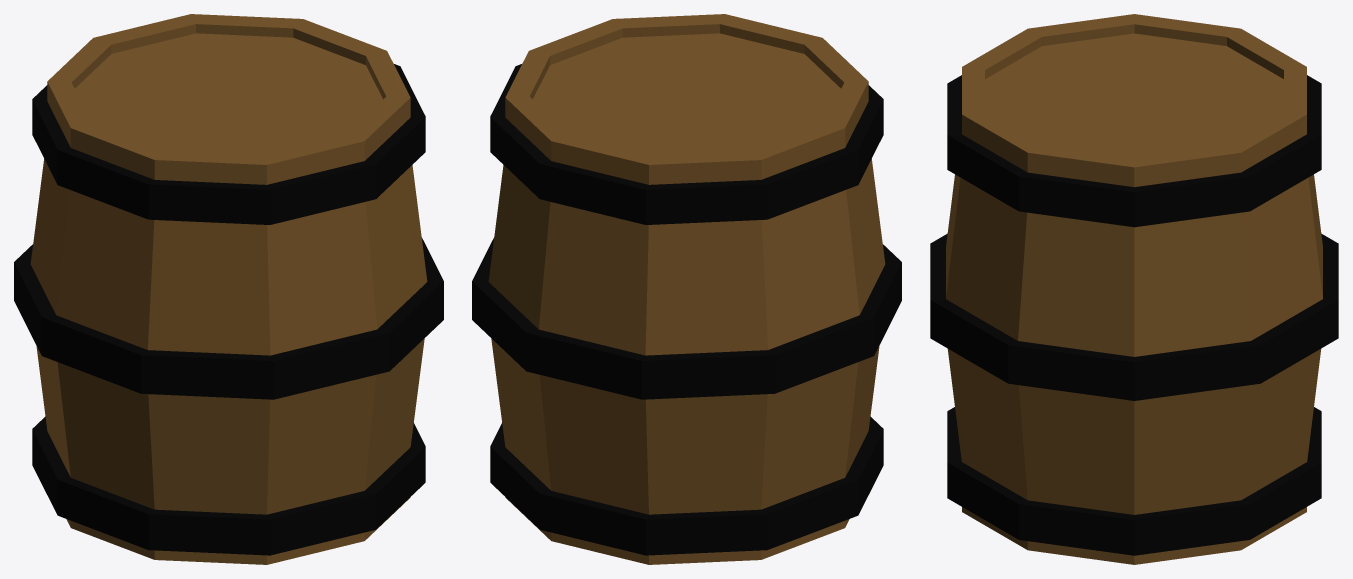
The model's file is Barrel_Destructible.fbx.
3 renders of one model, left to right at view 1: azimuth 30°, elevation 25°; view 2: azimuth 150°, elevation 25°; view 3: azimuth 270°, elevation 25°, orthographic.
Visible parts, largest first — view 1: Barrel_Destructible, Barrel_Destructible_cell.001, Barrel_Destructible_cell, Barrel_IronBelt_02, Barrel_IronBelt_03, Barrel_IronBelt_01, Barrel_Destructible_cell.008, Barrel_Destructible_cell.003, Barrel_Destructible_cell.002, Barrel_Destructible_cell.004, Barrel_Destructible_cell.005; view 2: Barrel_Destructible, Barrel_IronBelt_02, Barrel_IronBelt_03, Barrel_IronBelt_01, Barrel_Destructible_cell.001, Barrel_Destructible_cell.002, Barrel_Destructible_cell.003; view 3: Barrel_Destructible, Barrel_IronBelt_02, Barrel_IronBelt_01, Barrel_IronBelt_03, Barrel_Destructible_cell.003, Barrel_Destructible_cell.008, Barrel_Destructible_cell, Barrel_Destructible_cell.006, Barrel_Destructible_cell.002, Barrel_Destructible_cell.004, Barrel_Destructible_cell.005.
Boxes of the visible parts, <box> form: Barrel_Destructible: <box>30,14,410,559</box>; Barrel_Destructible_cell.001: <box>57,362,348,564</box>; Barrel_Destructible_cell: <box>192,106,401,355</box>; Barrel_IronBelt_02: <box>14,237,443,399</box>; Barrel_IronBelt_03: <box>32,416,425,555</box>; Barrel_IronBelt_01: <box>32,64,425,224</box>; Barrel_Destructible_cell.008: <box>314,299,424,552</box>; Barrel_Destructible_cell.003: <box>329,42,427,298</box>; Barrel_Destructible_cell.002: <box>51,103,211,352</box>; Barrel_Destructible_cell.004: <box>183,24,329,97</box>; Barrel_Destructible_cell.005: <box>71,27,185,88</box>; Barrel_Destructible: <box>488,14,885,564</box>; Barrel_IronBelt_02: <box>472,237,901,399</box>; Barrel_IronBelt_03: <box>490,416,883,555</box>; Barrel_IronBelt_01: <box>490,64,883,224</box>; Barrel_Destructible_cell.001: <box>851,345,879,420</box>; Barrel_Destructible_cell.002: <box>800,66,876,366</box>; Barrel_Destructible_cell.003: <box>540,35,621,84</box>; Barrel_Destructible: <box>956,14,1322,564</box>; Barrel_IronBelt_02: <box>930,233,1338,400</box>; Barrel_IronBelt_01: <box>947,75,1321,227</box>; Barrel_IronBelt_03: <box>947,407,1321,555</box>; Barrel_Destructible_cell.003: <box>982,134,1186,356</box>; Barrel_Destructible_cell.008: <box>947,305,1027,519</box>; Barrel_Destructible_cell: <box>946,75,994,312</box>; Barrel_Destructible_cell.006: <box>1066,391,1134,564</box>; Barrel_Destructible_cell.002: <box>1017,24,1176,60</box>; Barrel_Destructible_cell.004: <box>1154,92,1265,178</box>; Barrel_Destructible_cell.005: <box>1184,31,1283,78</box>.
Size of the model in its own units: 225 by 237 by 242.
